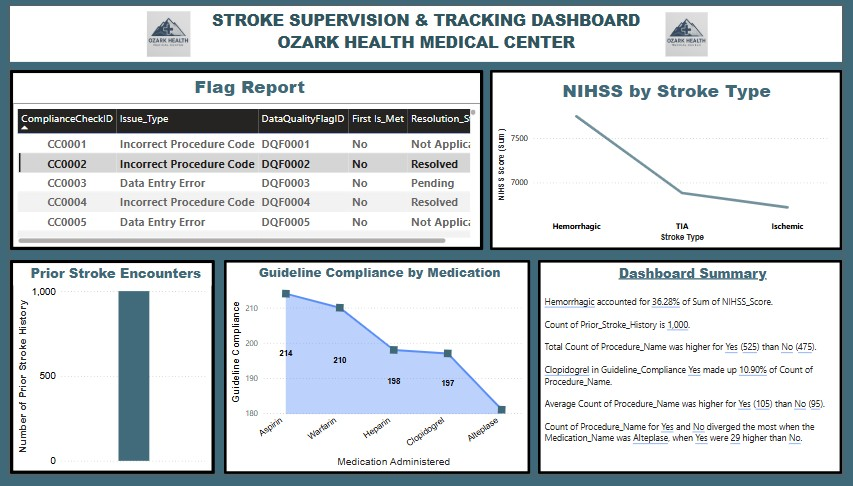

What the dashboard file says about the page in this screenshot:
{"tool":"powerbi","page":{"name":"Page 1","canvas":[1280,720],"ordinal":0},"visuals":[{"type":"lineChart","title":"NIHSS by Stroke Type","fields":{"Category":["STROKE_ENCOUNTER (2).Stroke_Type"],"Y":["Sum(STROKE_ENCOUNTER (2).NIHSS_Score)"]},"box":[738.2,98.6,542.1,276.6],"z":0},{"type":"textbox","box":[0,0,1280,86.2],"z":1000},{"type":"tableEx","title":"Flag Report","fields":{"Values":["DATA_QUALITY_FLAG (2).ComplianceCheckID","DATA_QUALITY_FLAG (2).Issue_Type","DATA_QUALITY_FLAG (2).DataQualityFlagID","Min(COMPLIANCE_CHECK (2).Is_Met)","DATA_QUALITY_FLAG (2).Resolution_Status"]},"box":[0,98.5,727.7,276.9],"z":2000},{"type":"columnChart","title":"Stroke Encounters","fields":{"Y":["CountNonNull(PATIENT (2).Prior_Stroke_History)"]},"box":[0,390.8,315.4,329.2],"z":3000},{"type":"stackedAreaChart","title":"Guideline Compliance by Medication","fields":{"Category":["TREATMENT (2).Medication_Name"],"Y":["CountNonNull(TREATMENT (2).Guideline_Compliance)"]},"box":[327,391,544,329],"z":4000},{"type":"image","box":[204.6,3.1,78.5,80],"z":5000},{"type":"image","box":[998.5,4.6,84.6,78.5],"z":6000},{"type":"textbox","title":"Dashboard Summary","box":[882.7,390.9,397.3,329.1],"z":7000}]}

Visuals, with their boxes in screenshot pixels (x1, y1, x2, y2), scaled from the page's 1280x720 canvas onto the 853x486 screenshot:
"NIHSS by Stroke Type" lineChart: l=492, t=67, r=852, b=253
textbox: l=0, t=0, r=852, b=58
"Flag Report" tableEx: l=0, t=66, r=485, b=253
"Stroke Encounters" columnChart: l=0, t=264, r=210, b=485
"Guideline Compliance by Medication" stackedAreaChart: l=218, t=264, r=580, b=485
image: l=136, t=2, r=189, b=56
image: l=665, t=3, r=722, b=56
"Dashboard Summary" textbox: l=588, t=264, r=852, b=485
